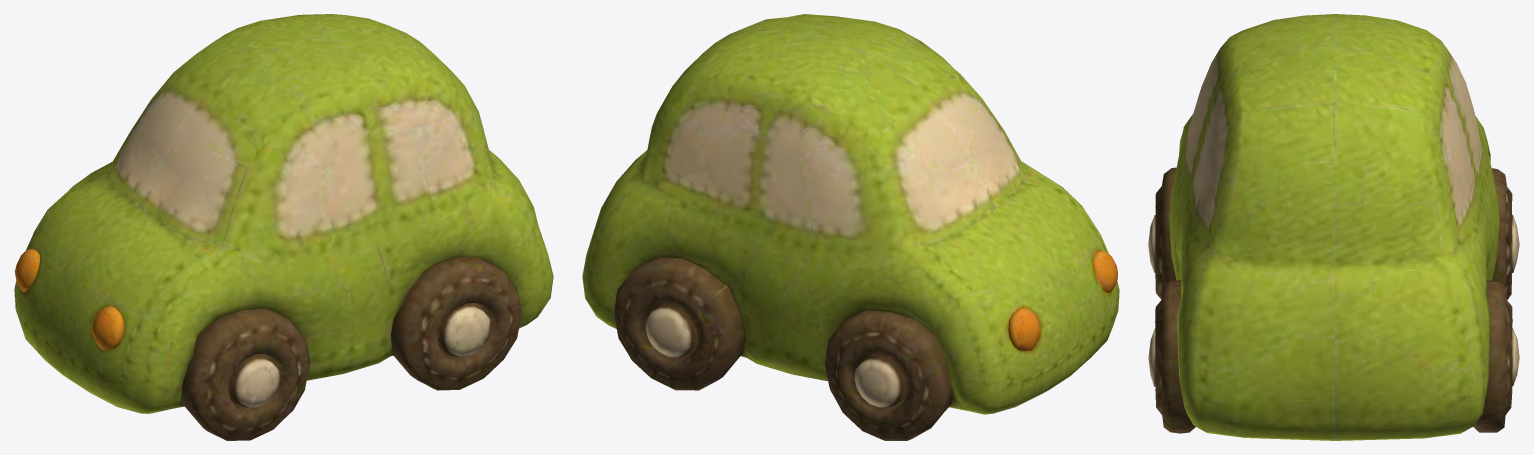
Rendered from car-green.glb.
The picture shows the model from 3 angles, left to right: view 1: azimuth 30°, elevation 25°; view 2: azimuth 150°, elevation 25°; view 3: azimuth 270°, elevation 25°; orthographic projection. The views are drawn at different scales.
Parts seen in each view (by area): view 1: geometry_0; view 2: geometry_0; view 3: geometry_0.
Boxes of the visible parts, <box> form: geometry_0: <box>14,14,553,440</box>; geometry_0: <box>582,14,1119,440</box>; geometry_0: <box>1148,14,1519,440</box>.
Size of the model in its own units: 1 by 0.6815 by 0.6573.
1 material, 1 textured.
